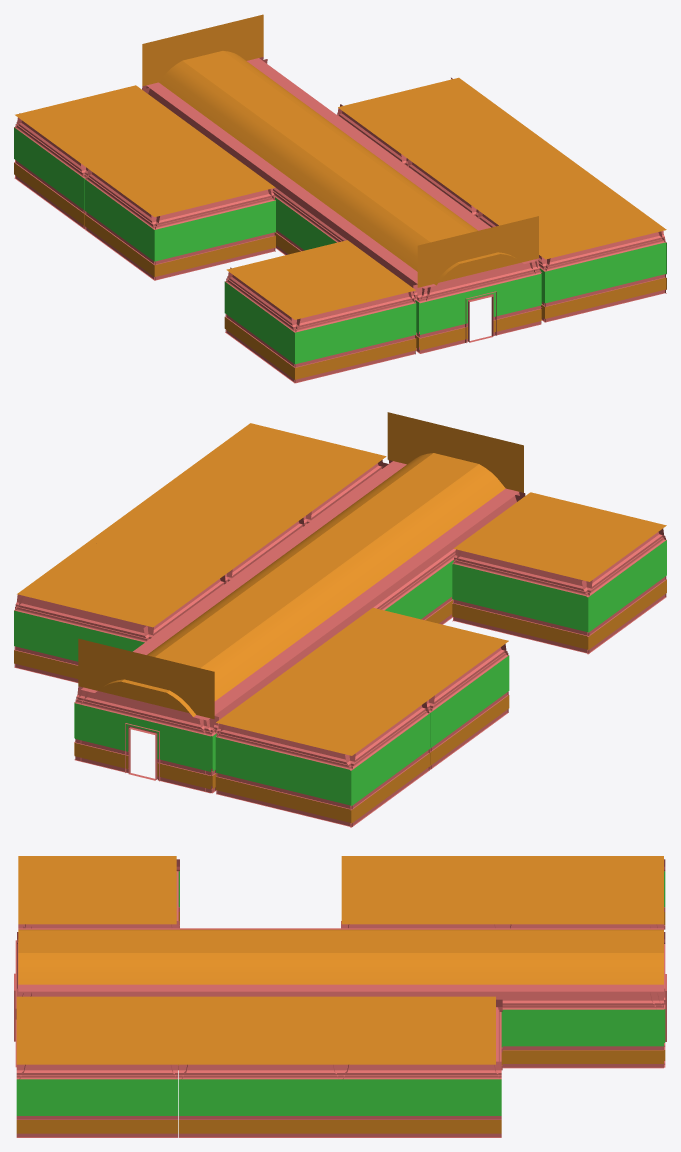
Rendered from Room_7.fbx.
3 renders of one model, top to bottom at view 1: azimuth 30°, elevation 25°; view 2: azimuth 150°, elevation 25°; view 3: azimuth 270°, elevation 25°, orthographic. The views are drawn at different scales.
Visible parts, largest first — view 1: Plane.023; view 2: Plane.023; view 3: Plane.023.
Part boxes in pixels (box(x1,y1,x2,y2)): Plane.023: box(14, 14, 666, 383); Plane.023: box(14, 412, 666, 827); Plane.023: box(14, 856, 666, 1137).
Bounding box in the file's own units: 1835 × 500 × 2427.
